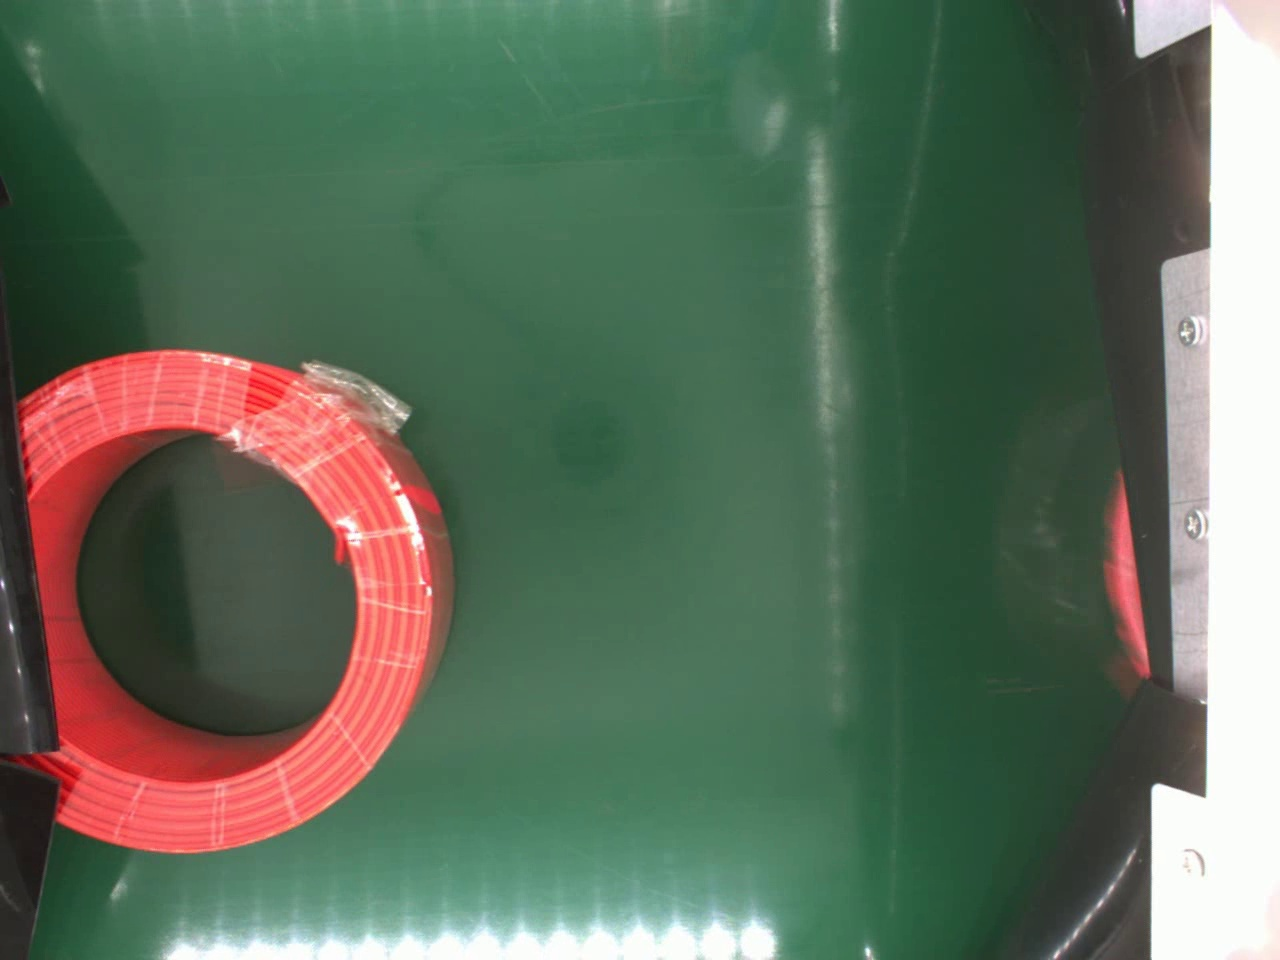red: (15, 344, 460, 857)
